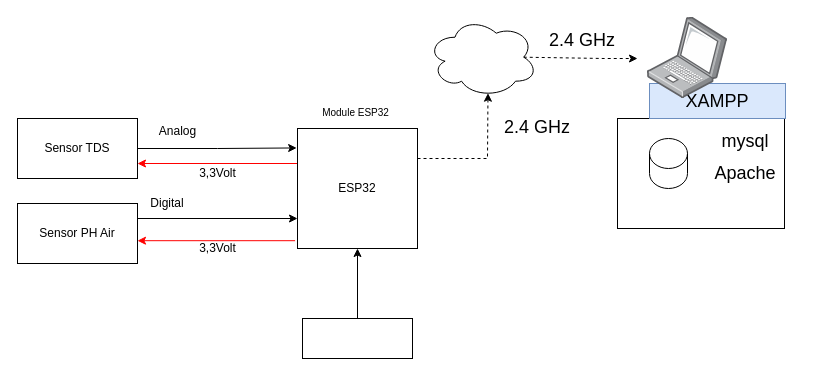
Some shapes in this 831 by 377 pixel diagram are drawn without their labels. Each missing label, with the centre of its shape:
"Catu Daya 5V" goes at point (357, 338).
"Internet" goes at point (482, 56).
